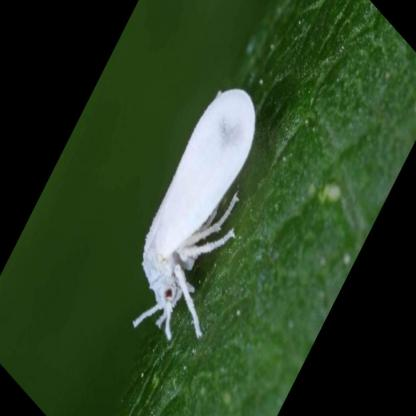whitefly: (142, 86, 256, 324)
